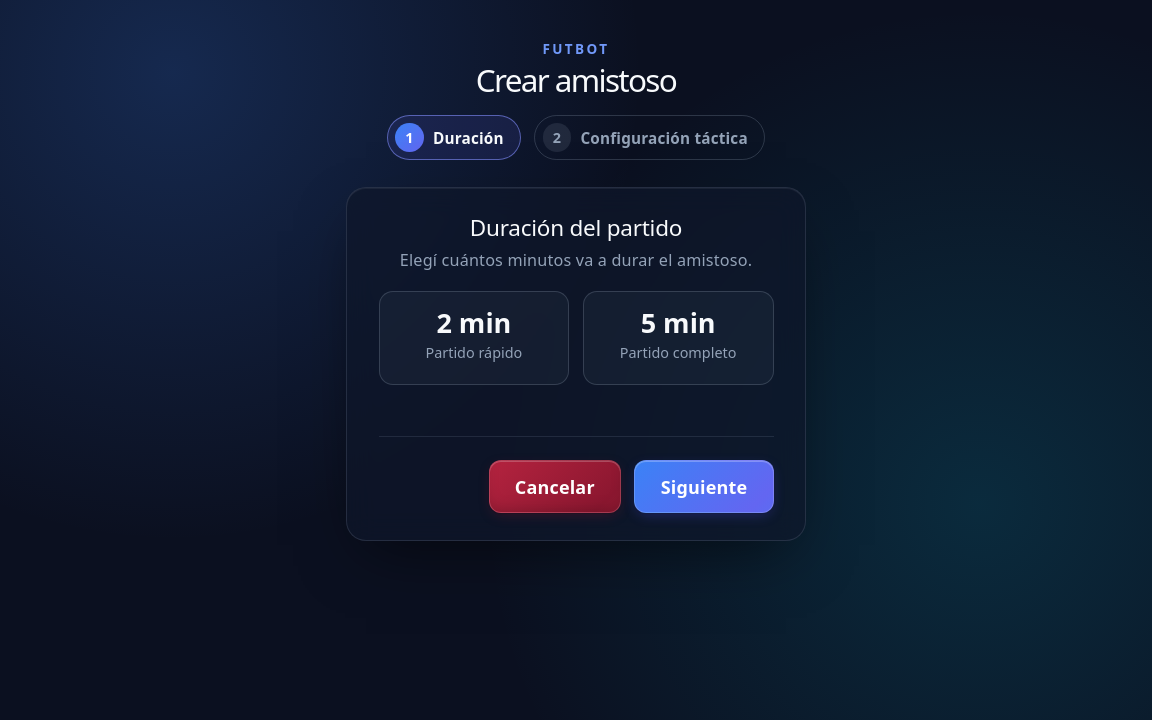
CreateFriendlyPage › Navegación entre pasos › Debería volver al paso 1 conservando la duración ingresada
The width and height of the screenshot is (1152, 720).
Click the radio button labelled "2 min Partido rápido" at (474, 338), box [378,291,569,385]
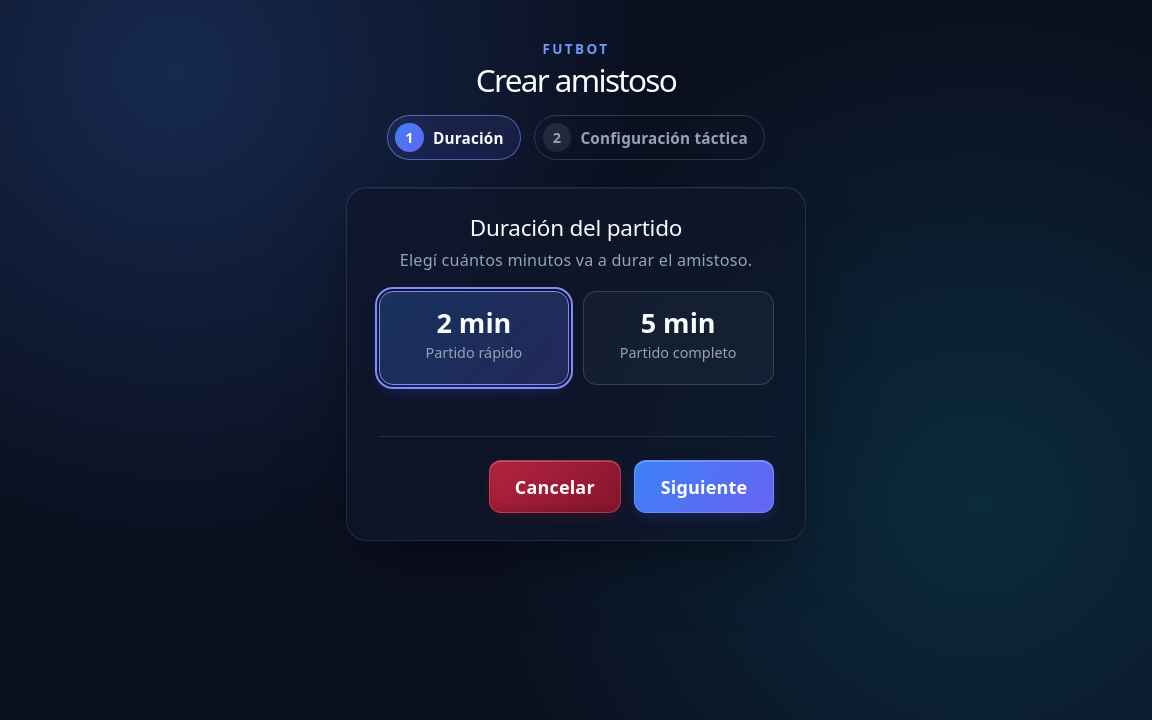
Click the button "Siguiente" at (704, 487), box [634,460,774,513]
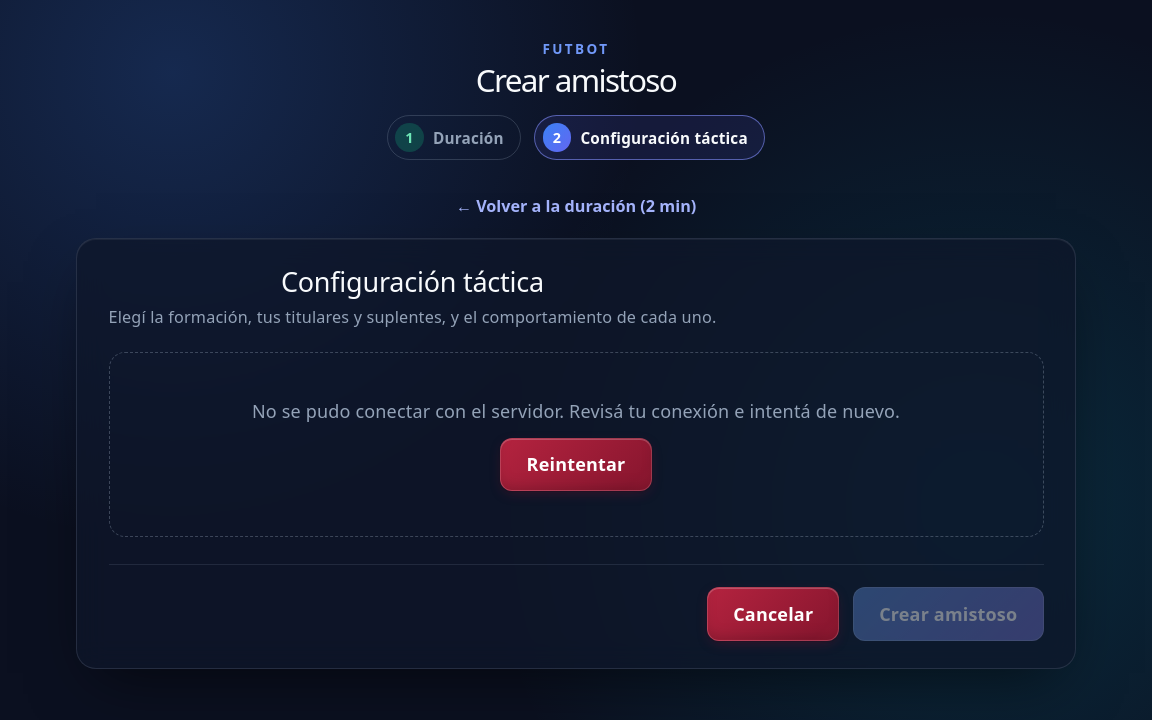
Click the button "← Volver a la duración (2 min)" at (576, 206), box [456,187,696,224]
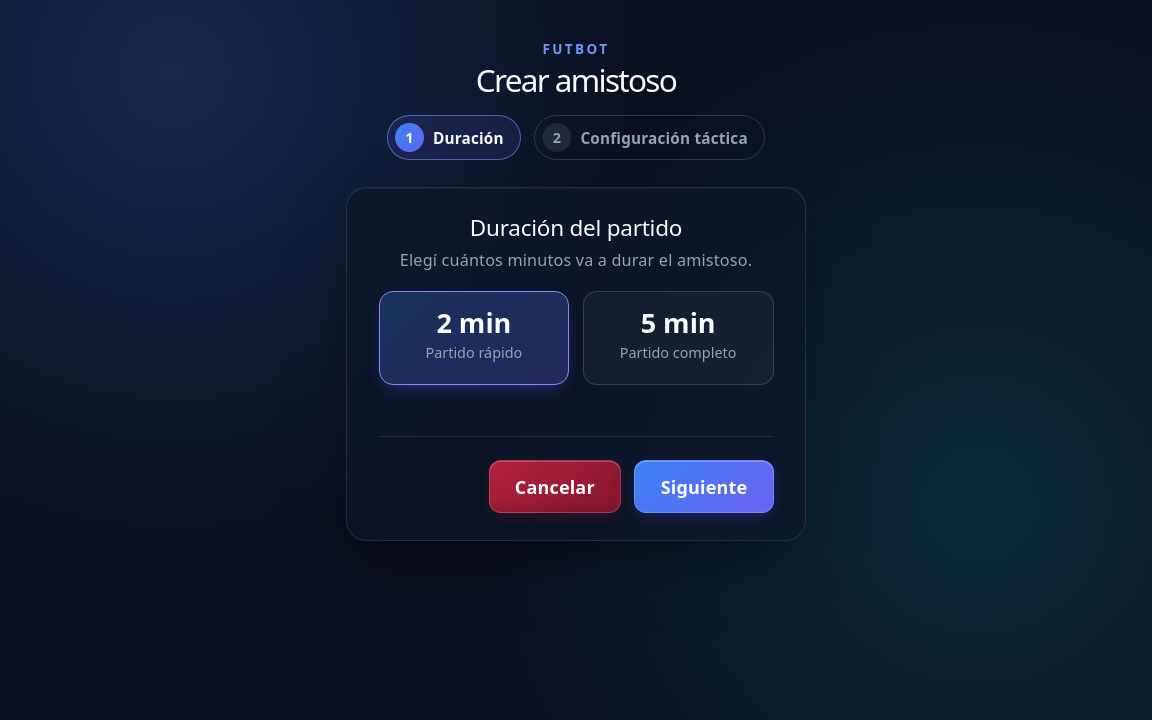
Check: the radio button labelled "2 min Partido rápido" is checked, box [378,291,569,385]
